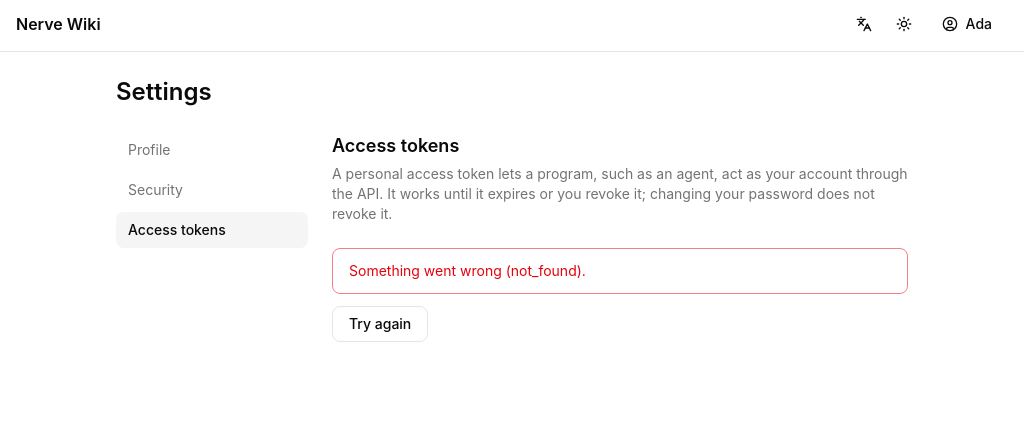
a list that cannot be loaded says so, and loads again on Try again
expect the message reads "Something went wrong (not_found).": met, box [349, 262, 586, 279]
expect the button "Create token" is not shown: met
Click the button "Try again".
click(380, 324)  # box [332, 306, 428, 342]
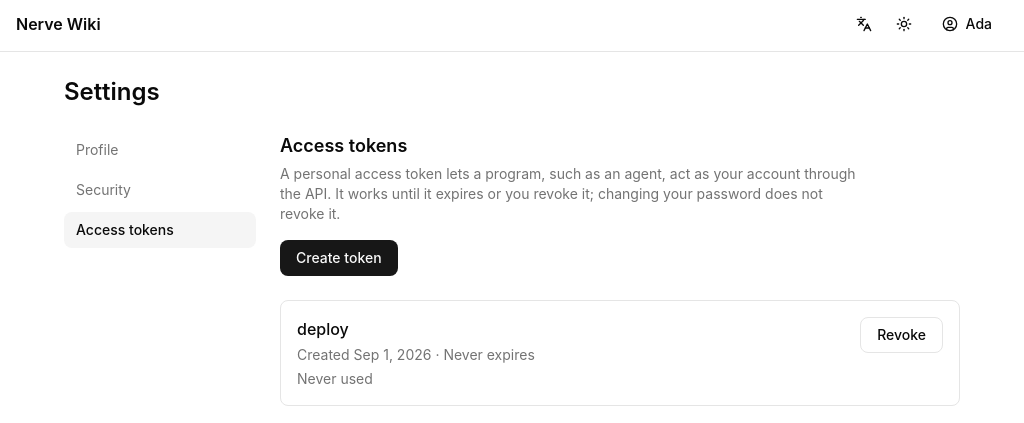
expect the list item is shown: met, box [281, 301, 959, 405]
expect the button "Create token" is shown: met, box [280, 240, 398, 276]
